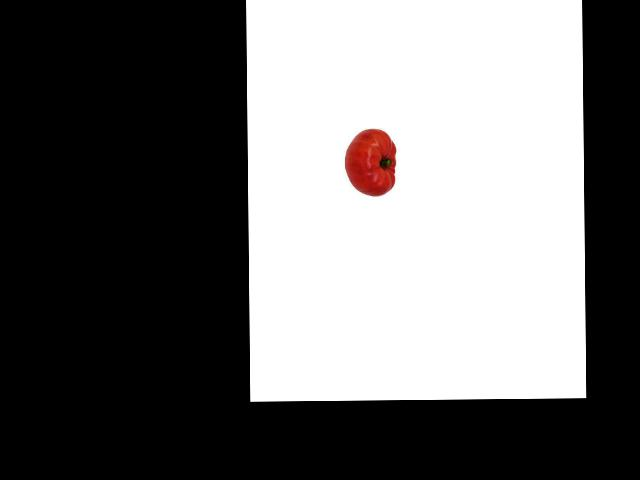tomato: (344, 128, 395, 196)
